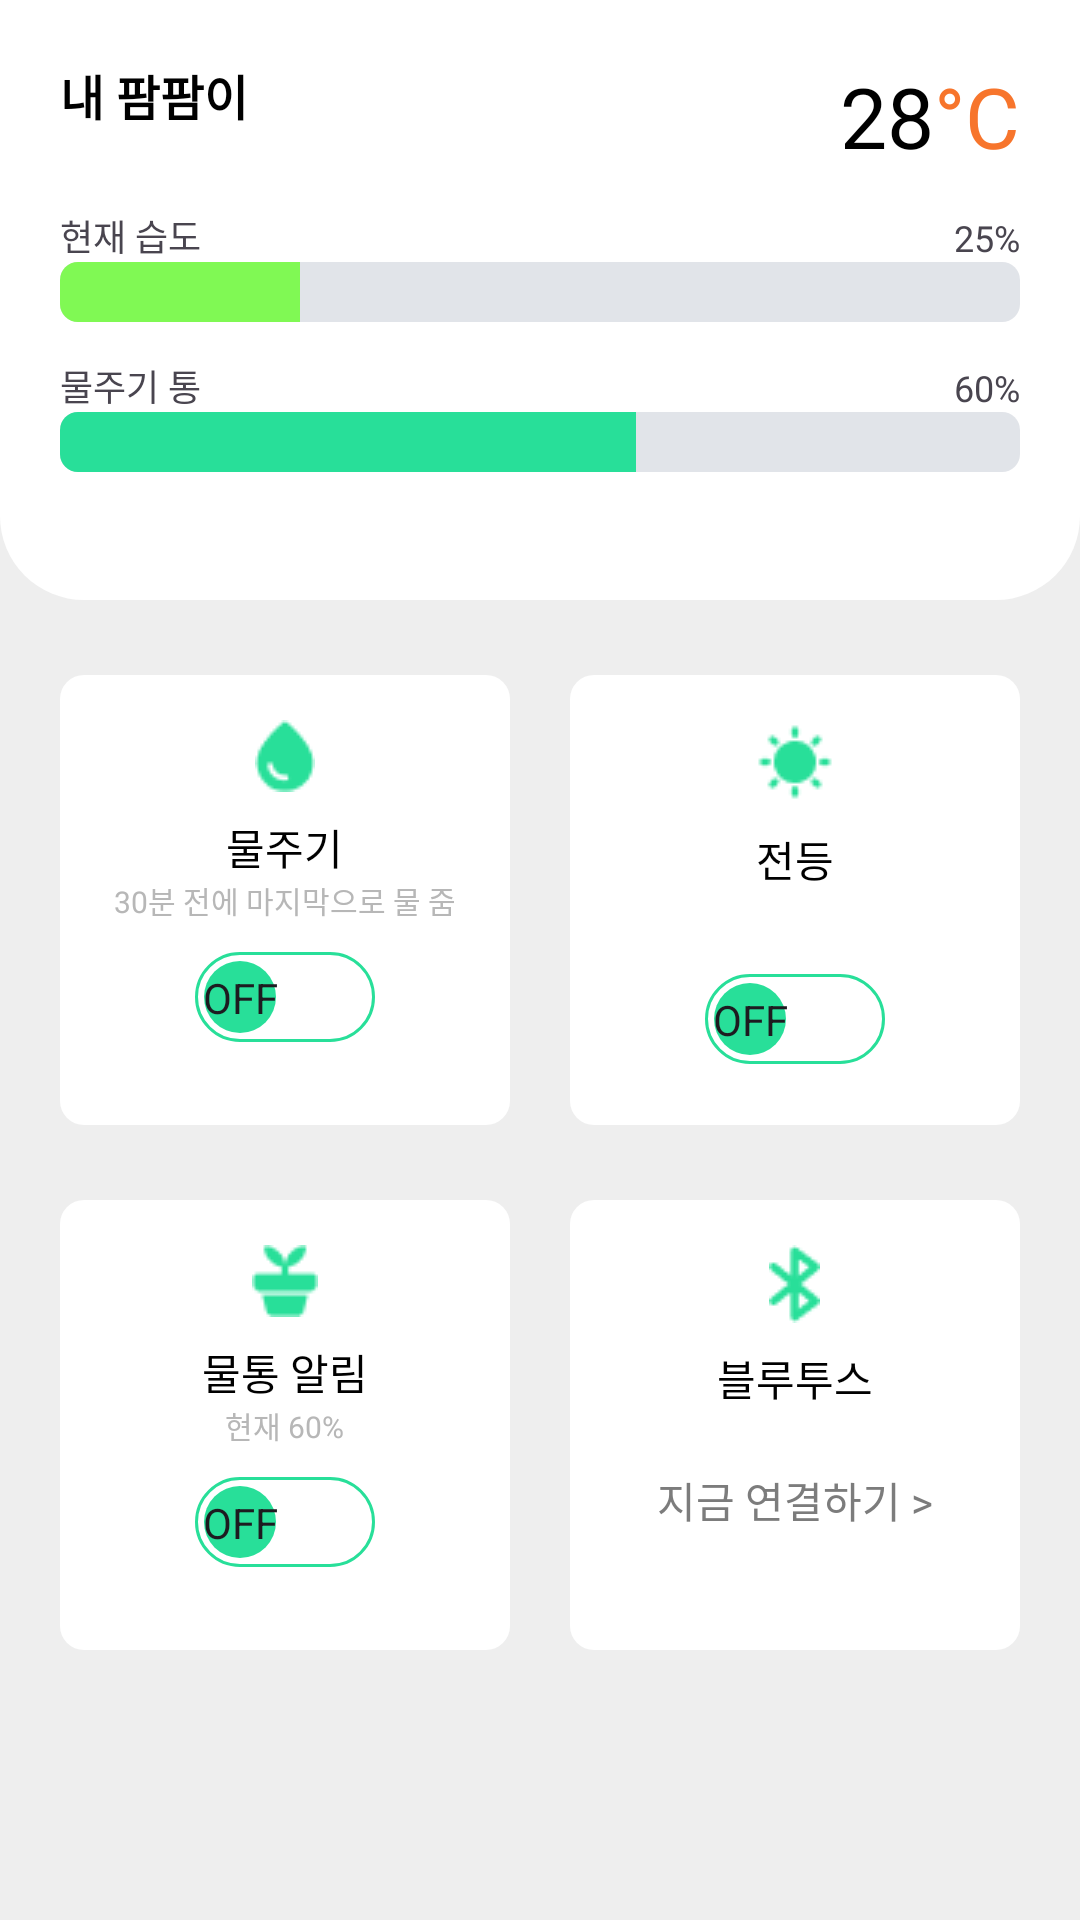

Point at icon controls on the screen. Image size 1080px x 1920px, points as (x=x, y=y).
function sun: (x=795, y=762)
